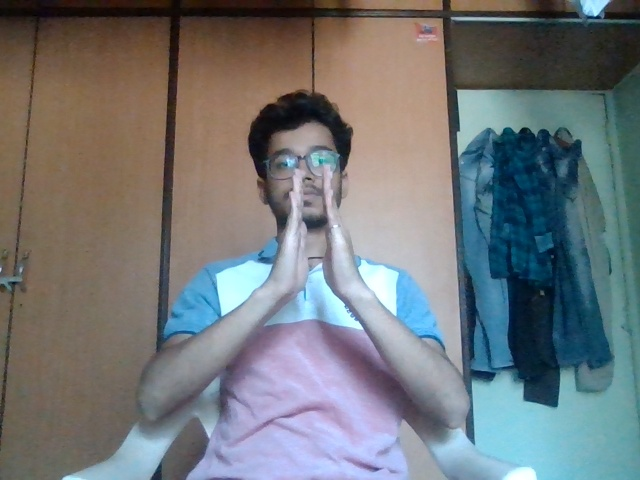morning: (271, 163, 376, 318)
